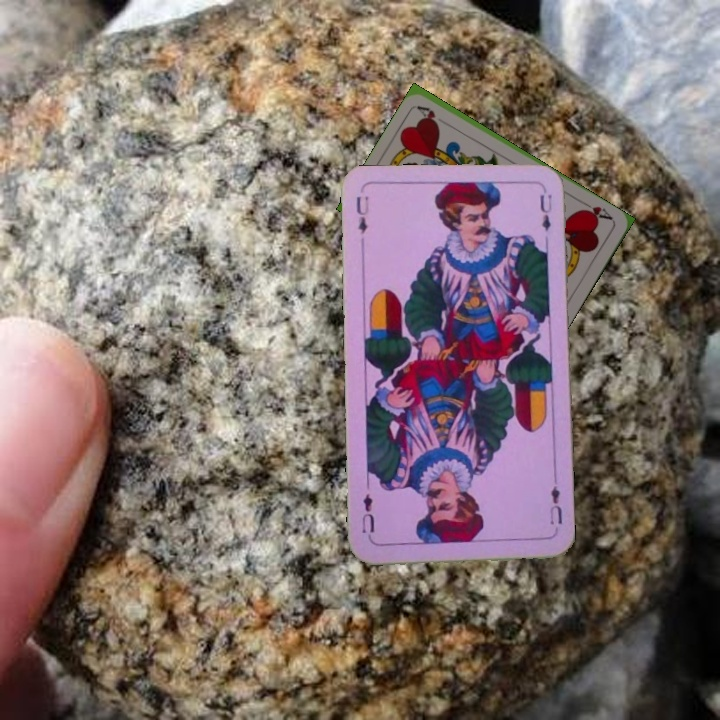EU: (545, 482, 565, 528), (352, 192, 371, 236)
HA: (577, 197, 615, 223)
